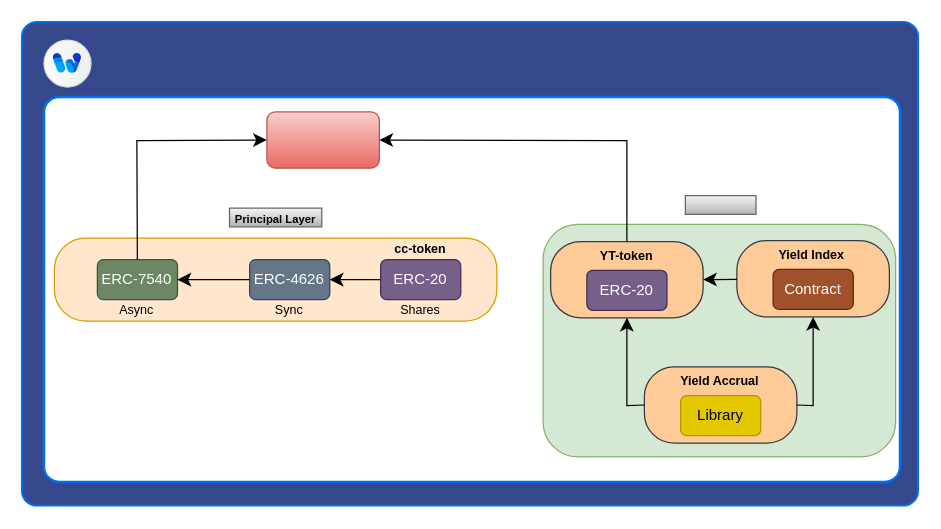
This 941x529 diagram has some shape labels left out. Each missing label, with the box of its shape:
Aperta Protocol Vault Provider: (43, 39, 91, 87)
VAULT: (266, 111, 379, 168)
Yield Layer: (684, 194, 756, 214)
